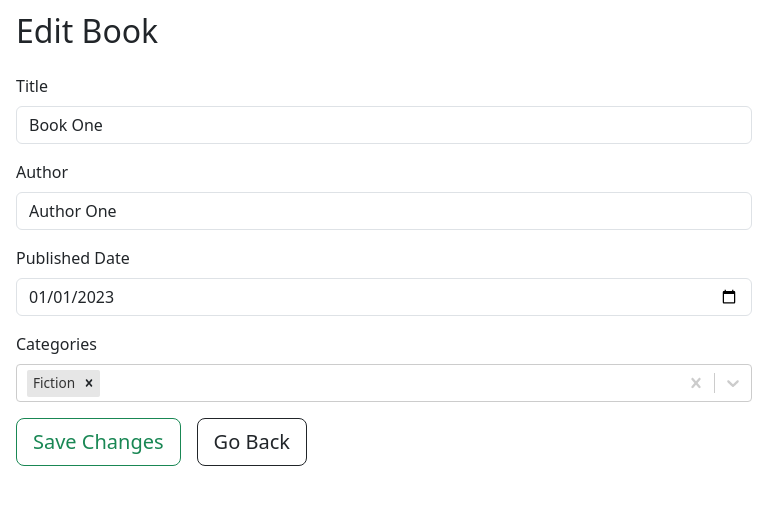
EditBook Component › shows validation errors if required fields are empty
# Clear title
Clear the field showing "Book One" below "Title" at x=384, y=125, box [16, 106, 752, 144]
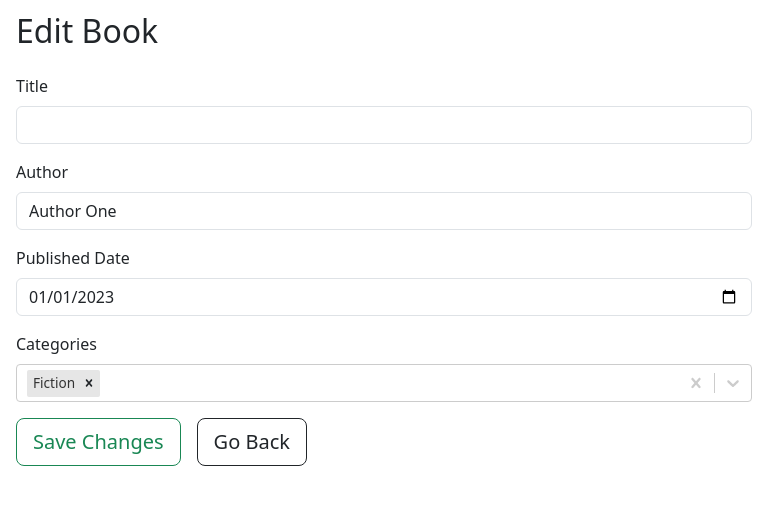
Click the button "Save Changes" at x=98, y=442, box [16, 418, 181, 466]
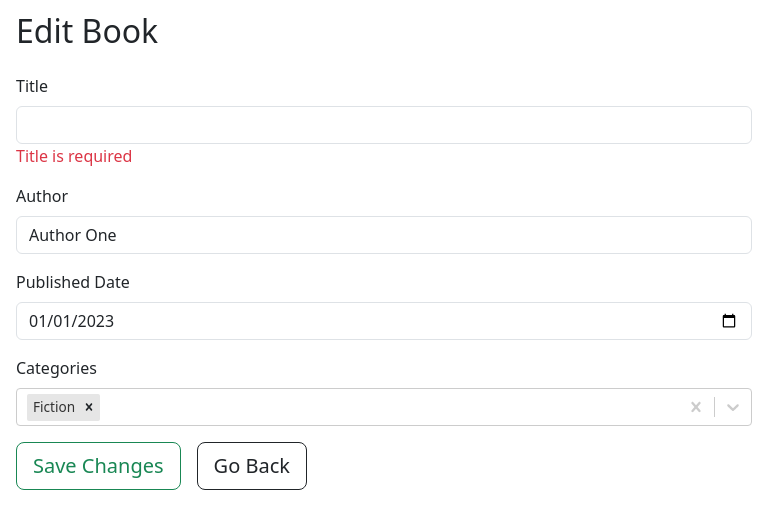
Result: the text "Title is required" is shown at [16, 145, 132, 167]
